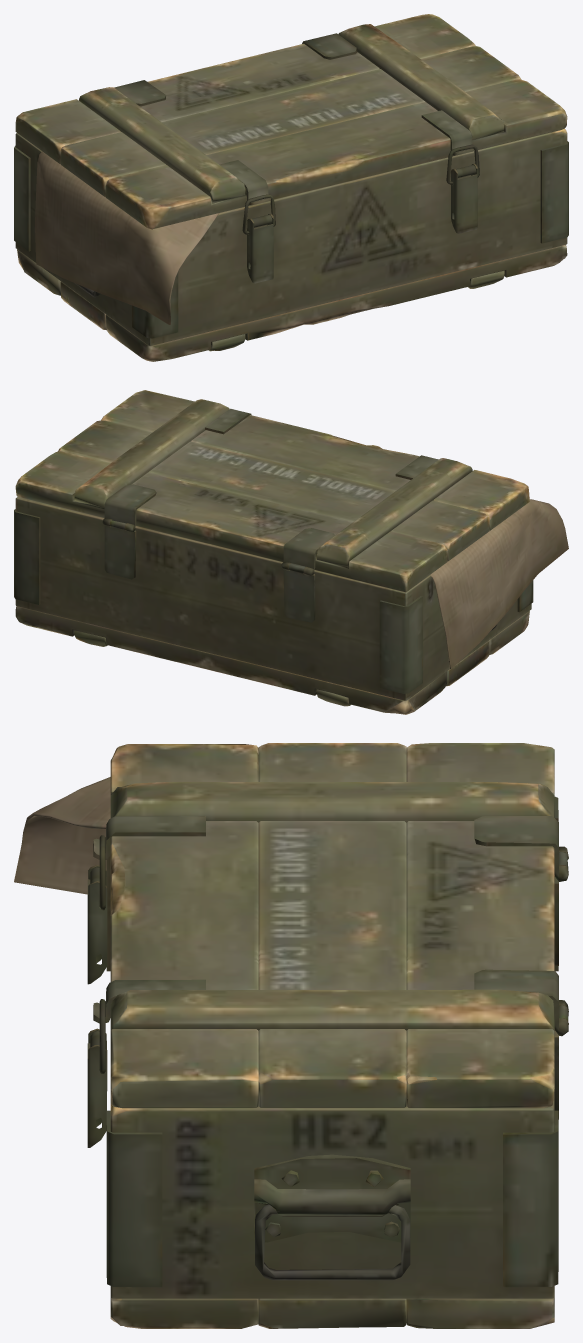
Rendered from crate_military.glb.
The picture shows the model from 3 angles, top to bottom: view 1: azimuth 30°, elevation 25°; view 2: azimuth 150°, elevation 25°; view 3: azimuth 270°, elevation 25°; orthographic projection. The views are drawn at different scales.
Parts seen in each view (by area): view 1: old_military_crate_lid_a, old_military_crate_a, old_military_crate_cloth_a, old_military_crate_latch_a, old_military_crate_loop_a; view 2: old_military_crate_lid_a, old_military_crate_a, old_military_crate_cloth_a; view 3: old_military_crate_lid_a, old_military_crate_a, old_military_crate_cloth_a, old_military_crate_latch_a, old_military_crate_loop_a.
Boxes of the visible parts, x1,y1,x2,y2 form: old_military_crate_lid_a: (15,14,567,229); old_military_crate_a: (14,128,568,361); old_military_crate_cloth_a: (35,151,219,324); old_military_crate_latch_a: (247,164,477,283); old_military_crate_loop_a: (242,144,479,234); old_military_crate_lid_a: (15,390,529,592); old_military_crate_a: (14,497,533,714); old_military_crate_cloth_a: (430,499,568,668); old_military_crate_lid_a: (93,743,568,1108); old_military_crate_a: (106,796,568,1328); old_military_crate_cloth_a: (14,777,110,894); old_military_crate_latch_a: (87,865,107,1147); old_military_crate_loop_a: (99,835,105,1073).
Size of the model in its own units: 0.8153 by 0.3009 by 0.5376.
1 material, 1 textured.
